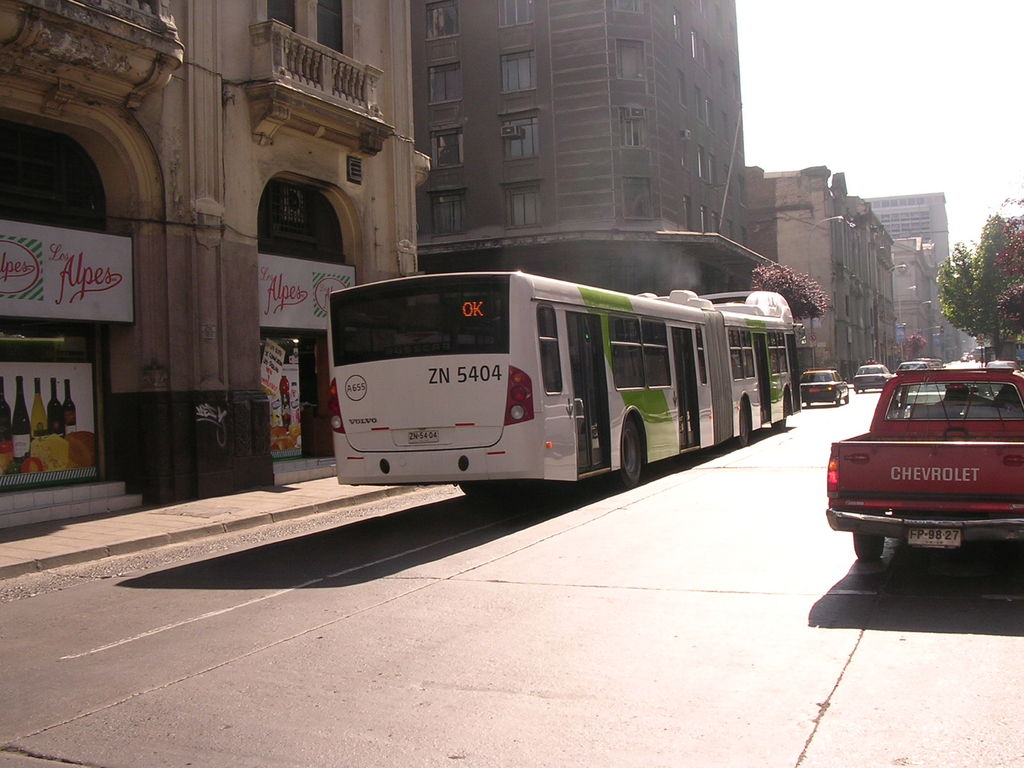Bus: (326, 264, 808, 489)
